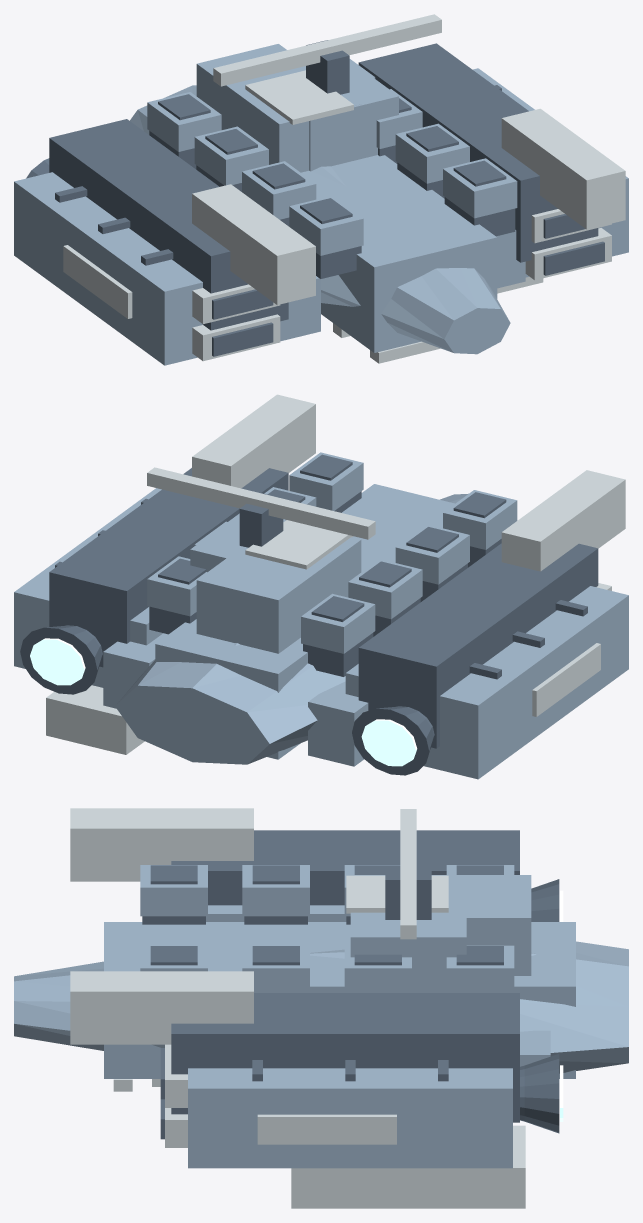
The picture shows the model from 3 angles, top to bottom: view 1: azimuth 30°, elevation 25°; view 2: azimuth 150°, elevation 25°; view 3: azimuth 270°, elevation 25°; orthographic projection. The views are drawn at different scales.
Size of the model in its own units: 18.48 by 8.88 by 19.28.
